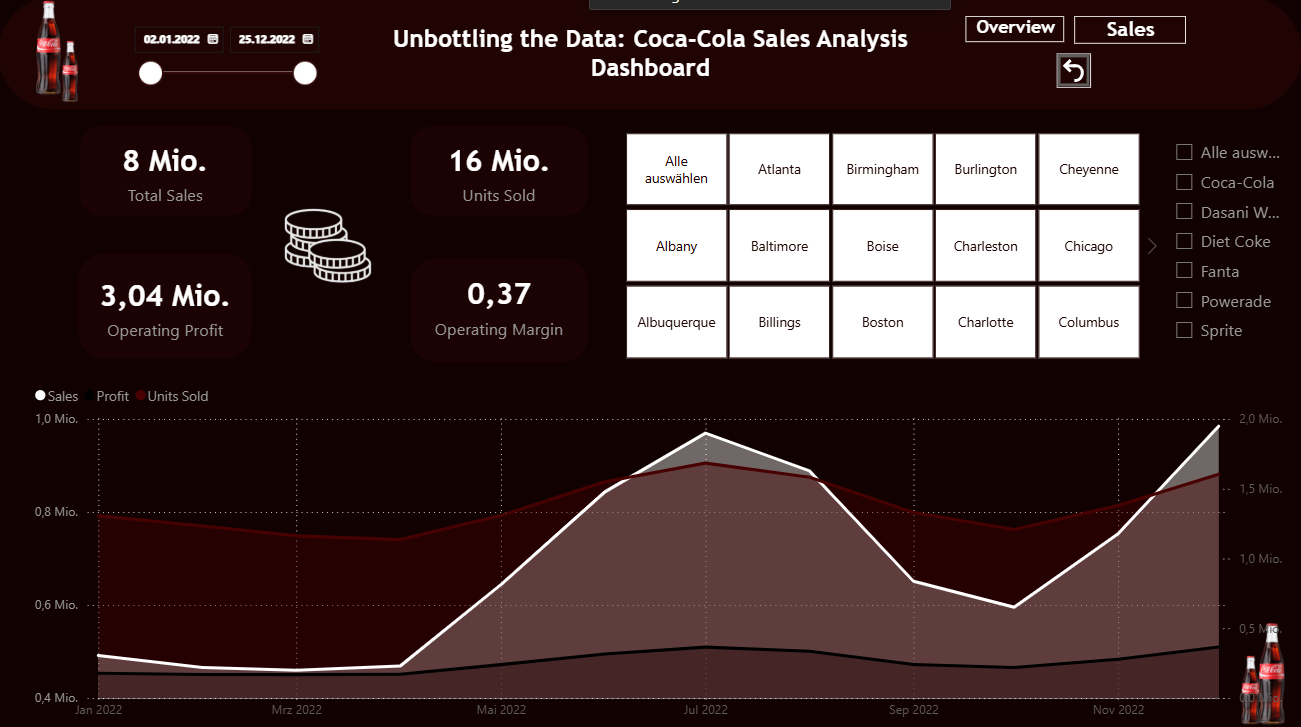

This screenshot's page, from the dashboard's own definition file:
{"tool":"powerbi","page":{"name":"Sales","canvas":[1280,720],"ordinal":2},"visuals":[{"type":"shape","box":[78.5,252.8,170.6,103.1],"z":0},{"type":"shape","box":[404.9,127.6,174.2,88.3],"z":1000},{"type":"card","fields":{"Values":["Sum(Data.Units Sold)"]},"box":[419.6,121.5,144.8,100.6],"z":2000},{"type":"shape","box":[79.8,127.6,169.3,88.3],"z":3000},{"type":"shape","box":[0,0,1279.8,111.7],"z":4000},{"type":"slicer","fields":{"Values":["Data.Invoice Date"]},"box":[121.5,19.6,201.2,108],"z":5000},{"type":"textbox","box":[338.7,23.3,603.7,66.3],"z":6000},{"type":"actionButton","title":"Overview","box":[949.7,19.6,96.9,25.8],"z":7000},{"type":"actionButton","title":"Sales","box":[1057,20.1,109.5,26.8],"z":8000},{"type":"image","box":[29.4,0,40.5,101.8],"z":10000},{"type":"image","box":[50.3,39.3,40.5,69.9],"z":11000},{"type":"card","fields":{"Values":["Sum(Data.Total Sales)"]},"box":[79.8,121.5,169.3,100.6],"z":12000},{"type":"card","fields":{"Values":["Sum(Data.Operating Profit)"]},"box":[69.9,254,189,100.6],"z":13000},{"type":"shape","box":[404.9,257.7,174.2,101.8],"z":14000},{"type":"card","fields":{"Values":["Avg(Data.Operating Margin)"]},"box":[419.6,252.8,144.8,100.6],"z":15000},{"type":"image","box":[1219.6,611,60.1,109.2],"z":16000},{"type":"image","box":[1208.6,642.9,41.7,77.3],"z":17000},{"type":"lineChart","fields":{"Y":["Sum(Data.Total Sales)"],"Category":["Data.Invoice Date.Variation.Datumshierarchie.Jahr","Data.Invoice Date.Variation.Datumshierarchie.Quartal","Data.Invoice Date.Variation.Datumshierarchie.Monat"],"Y2":["Sum(Data.Operating Profit)","Sum(Data.Units Sold)"]},"box":[30.3,372.2,1235.8,347.2],"z":21000},{"type":"slicer","fields":{"Values":["Data.City"]},"box":[589.9,127.4,554.2,234.6],"z":22000},{"type":"slicer","fields":{"Values":["Data.Beverage Brand"]},"box":[1144.1,134.1,122.9,219],"z":23000},{"type":"actionButton","box":[1039.1,55.9,33.5,33.5],"z":24000},{"type":"image","box":[265.9,189.9,111.7,109.5],"z":24001}]}

Visuals, with their boxes in screenshot pixels (x1, y1, x2, y2), scaled from the page's 1280x720 canvas onto the 1301x727 screenshot:
shape: l=80, t=255, r=253, b=359
shape: l=412, t=129, r=589, b=218
card - Sum(Data.Units Sold): l=426, t=123, r=574, b=224
shape: l=81, t=129, r=253, b=218
shape: l=0, t=0, r=1300, b=113
slicer - Data.Invoice Date: l=123, t=20, r=328, b=129
textbox: l=344, t=24, r=958, b=90
"Overview" actionButton: l=965, t=20, r=1064, b=46
"Sales" actionButton: l=1074, t=20, r=1186, b=47
image: l=30, t=0, r=71, b=103
image: l=51, t=40, r=92, b=110
card - Sum(Data.Total Sales): l=81, t=123, r=253, b=224
card - Sum(Data.Operating Profit): l=71, t=256, r=263, b=358
shape: l=412, t=260, r=589, b=363
card - Avg(Data.Operating Margin): l=426, t=255, r=574, b=357
image: l=1240, t=617, r=1300, b=726
image: l=1228, t=649, r=1271, b=726
lineChart - Sum(Data.Total Sales) x Data.Invoice Date.Variation.Datumshierarchie.Jahr: l=31, t=376, r=1287, b=726
slicer - Data.City: l=600, t=129, r=1163, b=366
slicer - Data.Beverage Brand: l=1163, t=135, r=1288, b=357
actionButton: l=1056, t=56, r=1090, b=90
image: l=270, t=192, r=384, b=302
